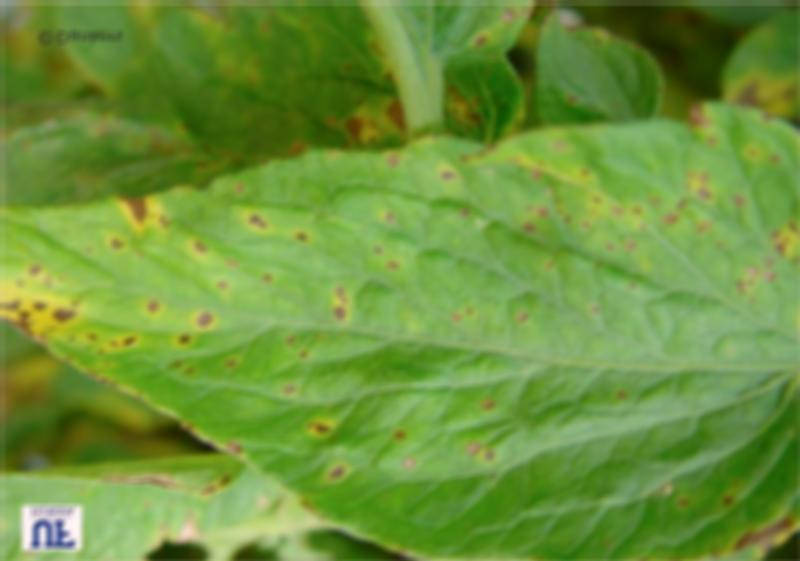Tomato leaf bacterial spot: (13, 88, 799, 540)
